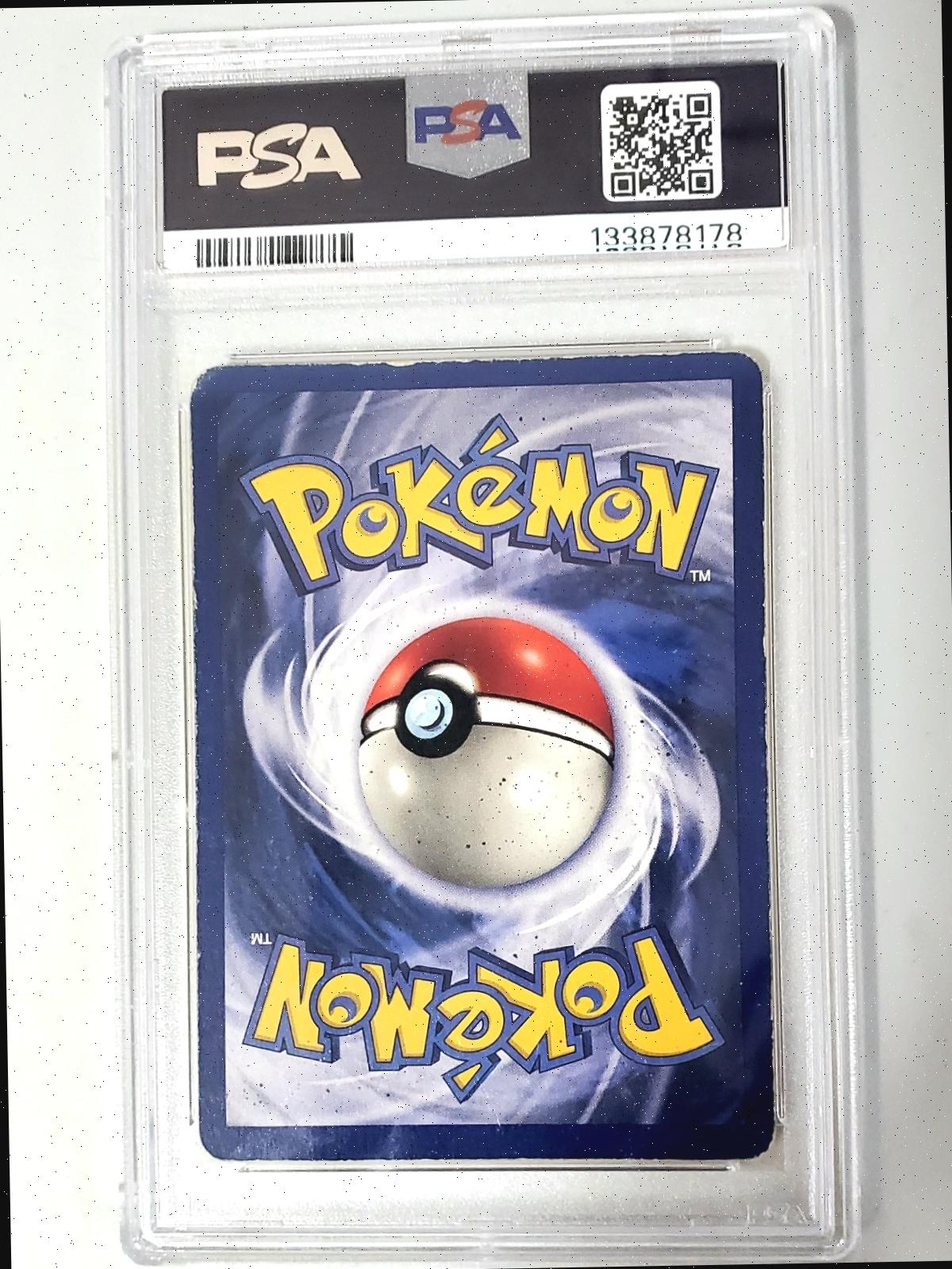card-2UtV: (188, 350, 776, 1162)
